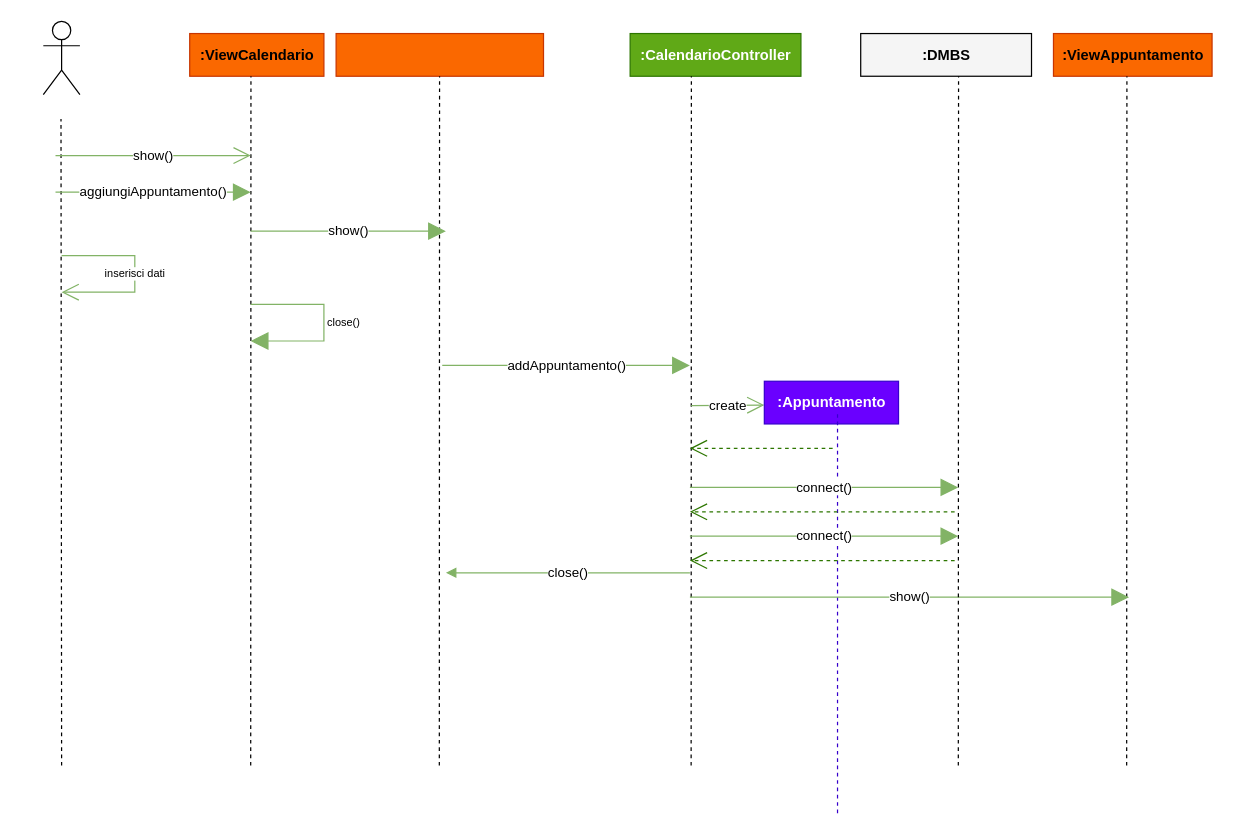
Some shapes in this 1233 by 836 pixel diagram are drawn without their labels. The shapes that lost their labels are listed below. From the top down, each one's box as (x1, y1, x2, y2) in pixels, then its label:
(42, 20, 80, 95): Nutrizionista
(335, 32, 544, 76): :ViewInserisciAppuntamento
